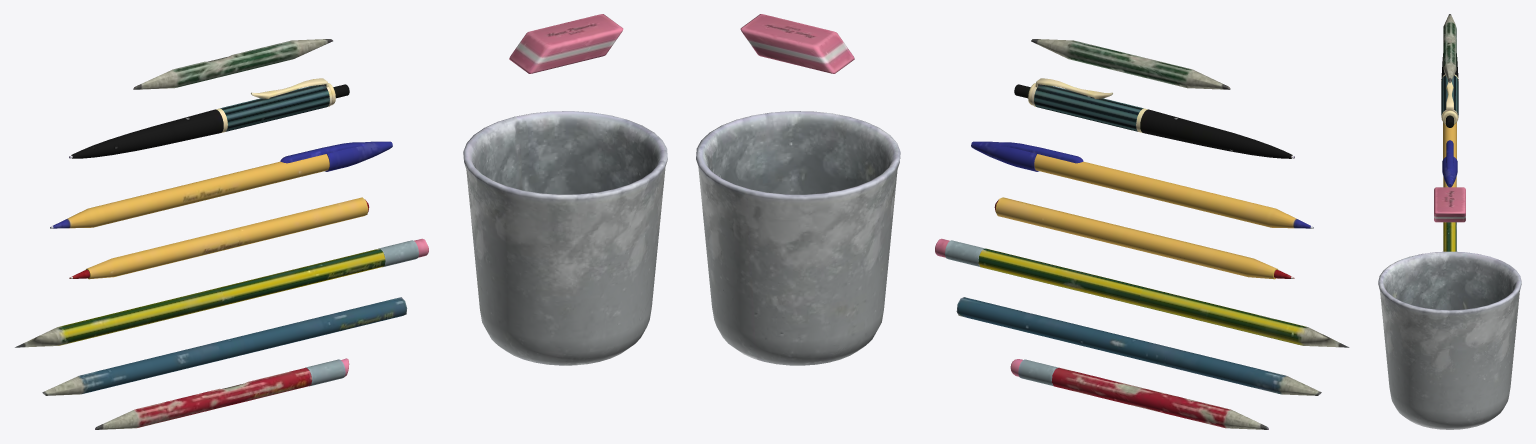
The model's file is stationery_supplies.glb.
The picture shows the model from 3 angles, left to right: view 1: azimuth 30°, elevation 25°; view 2: azimuth 150°, elevation 25°; view 3: azimuth 270°, elevation 25°; orthographic projection. The views are drawn at different scales.
Parts seen in each view (by area): view 1: stationery_supplies_pencilcup, stationery_supplies_pencil_new_a, stationery_supplies_pencil_new_b, stationery_supplies_pen_blue, stationery_supplies_pen_fancy, stationery_supplies_pen_red, stationery_supplies_pencil_used, stationery_supplies_eraser, stationery_supplies_pencil_old; view 2: stationery_supplies_pencilcup, stationery_supplies_pencil_new_a, stationery_supplies_pencil_new_b, stationery_supplies_pen_blue, stationery_supplies_pen_fancy, stationery_supplies_pen_red, stationery_supplies_pencil_used, stationery_supplies_eraser, stationery_supplies_pencil_old; view 3: stationery_supplies_pencilcup, stationery_supplies_eraser, stationery_supplies_pen_fancy, stationery_supplies_pen_blue, stationery_supplies_pencil_old, stationery_supplies_pencil_new_a.
Boxes of the visible parts, x1,y1,x2,y2 form: stationery_supplies_pencilcup: [463, 111, 667, 365]; stationery_supplies_pencil_new_a: [15, 238, 428, 347]; stationery_supplies_pencil_new_b: [42, 297, 407, 395]; stationery_supplies_pen_blue: [50, 141, 392, 228]; stationery_supplies_pen_fancy: [69, 78, 349, 158]; stationery_supplies_pen_red: [69, 197, 369, 279]; stationery_supplies_pencil_used: [95, 358, 349, 429]; stationery_supplies_eraser: [509, 14, 623, 73]; stationery_supplies_pencil_old: [133, 39, 332, 89]; stationery_supplies_pencilcup: [696, 111, 900, 365]; stationery_supplies_pencil_new_a: [935, 238, 1349, 347]; stationery_supplies_pencil_new_b: [956, 297, 1321, 395]; stationery_supplies_pen_blue: [971, 141, 1313, 228]; stationery_supplies_pen_fancy: [1014, 78, 1294, 158]; stationery_supplies_pen_red: [994, 197, 1294, 279]; stationery_supplies_pencil_used: [1010, 359, 1268, 429]; stationery_supplies_eraser: [740, 14, 854, 73]; stationery_supplies_pencil_old: [1031, 39, 1230, 89]; stationery_supplies_pencilcup: [1378, 251, 1521, 429]; stationery_supplies_eraser: [1434, 187, 1465, 222]; stationery_supplies_pen_fancy: [1441, 53, 1458, 127]; stationery_supplies_pen_blue: [1442, 122, 1457, 187]; stationery_supplies_pencil_old: [1443, 14, 1456, 82]; stationery_supplies_pencil_new_a: [1443, 222, 1456, 251].
Bounding box in the file's own units: 0.3019 × 0.1643 × 0.0837.
Materials: 1 (1 with a texture image).
